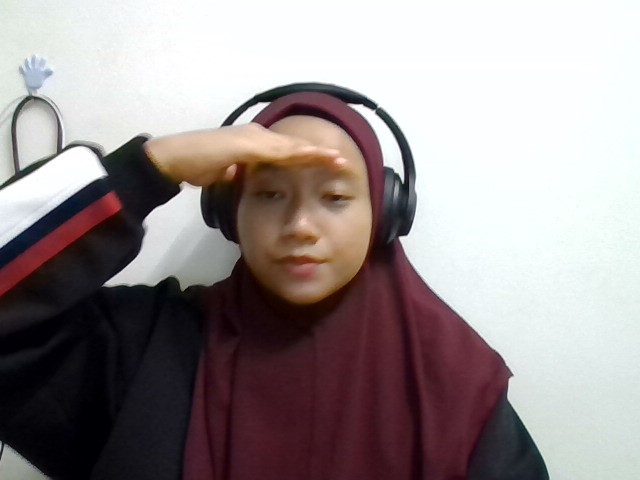Johor: (179, 122, 360, 186)
